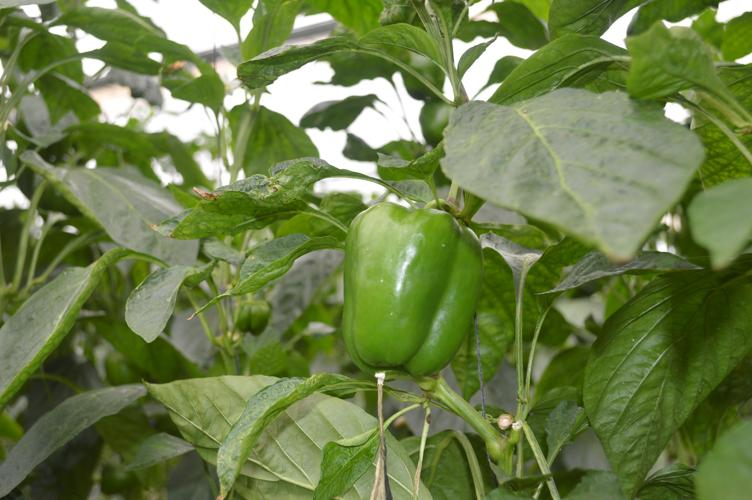BellPepper: (343, 204, 479, 372)
